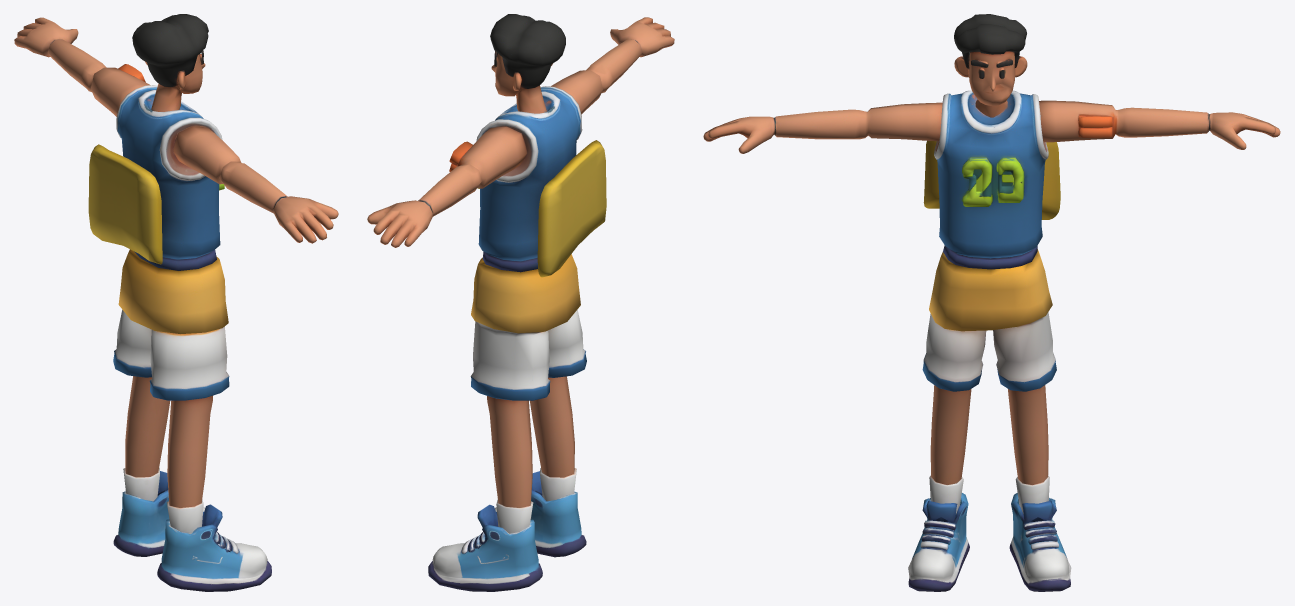
Rendered from defender-p2.glb.
3 renders of one model, left to right at view 1: azimuth 30°, elevation 25°; view 2: azimuth 150°, elevation 25°; view 3: azimuth 270°, elevation 25°, orthographic.
Visible parts, largest first — view 1: tripo_node_4d6cc576-c538-4a8e-aa5c-cf894209687b; view 2: tripo_node_4d6cc576-c538-4a8e-aa5c-cf894209687b; view 3: tripo_node_4d6cc576-c538-4a8e-aa5c-cf894209687b.
Boxes of the visible parts, box(x1,y1,x2,y2) form: tripo_node_4d6cc576-c538-4a8e-aa5c-cf894209687b: box(14, 14, 338, 591); tripo_node_4d6cc576-c538-4a8e-aa5c-cf894209687b: box(367, 14, 674, 591); tripo_node_4d6cc576-c538-4a8e-aa5c-cf894209687b: box(703, 14, 1280, 591).
Size of the model in its own units: 0.23 by 0.9995 by 0.9565.
Materials: 1 (1 with a texture image).
